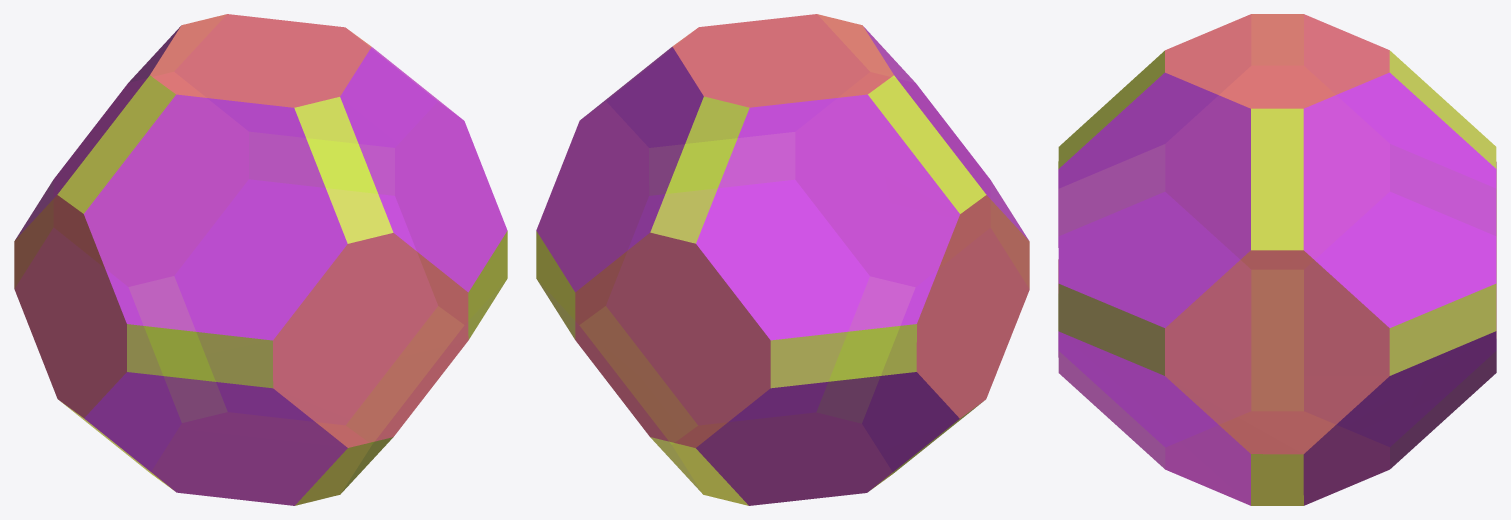
File: Mobius48aDual.obj
The picture shows the model from 3 angles, left to right: view 1: azimuth 30°, elevation 25°; view 2: azimuth 150°, elevation 25°; view 3: azimuth 270°, elevation 25°; orthographic projection.
Size of the model in its own units: 1.65 by 1.65 by 1.65.
